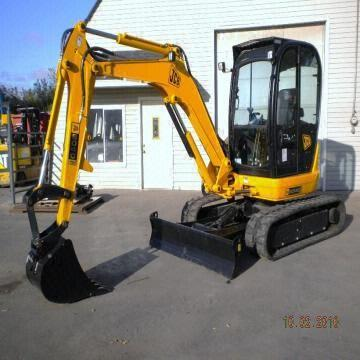backhoe: (20, 22, 340, 306)
